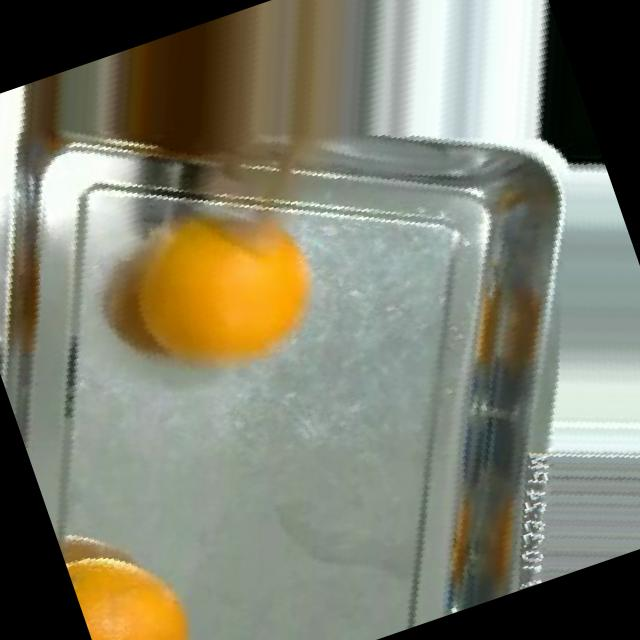Fruit: (482, 17, 610, 207)
